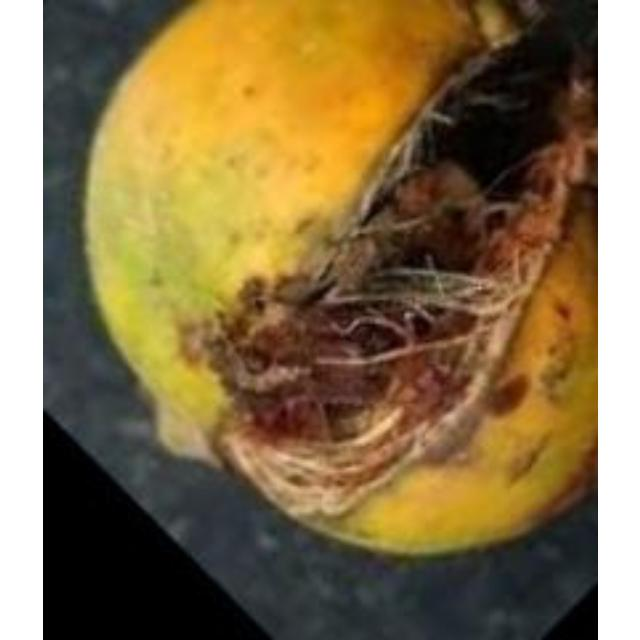damaged: (82, 0, 594, 563)
